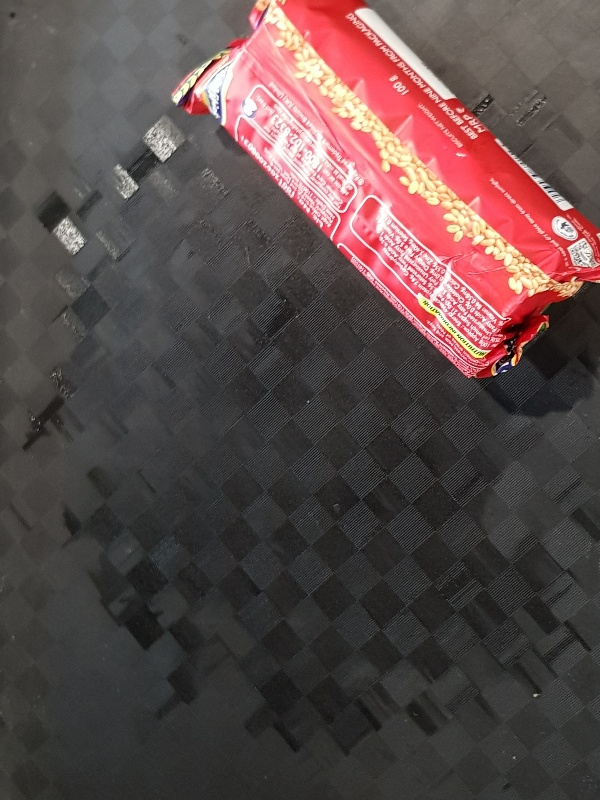McVitie's Wholewheat Marie: (166, 1, 600, 382)
